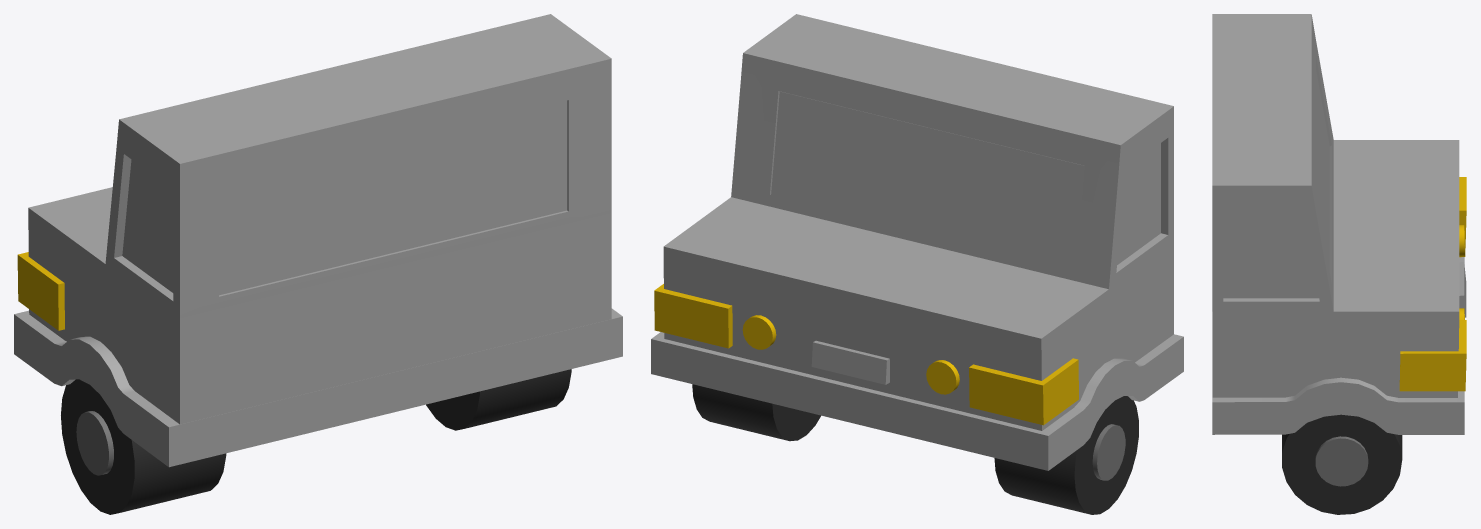
The model's file is arriere vehicule petit.fbx.
3 views of the same model, side by side, from view 1: azimuth 30°, elevation 25°; view 2: azimuth 150°, elevation 25°; view 3: azimuth 270°, elevation 25° (orthographic). The views are drawn at different scales.
Parts seen in each view (by area): view 1: arriere_vehicule_petit; view 2: arriere_vehicule_petit; view 3: arriere_vehicule_petit.
Boxes of the visible parts, x1,y1,x2,y2 form: arriere_vehicule_petit: (14,14,622,514); arriere_vehicule_petit: (651,14,1183,514); arriere_vehicule_petit: (1212,14,1466,514).
Size of the model in its own units: 1.89 by 1.61 by 1.13.
